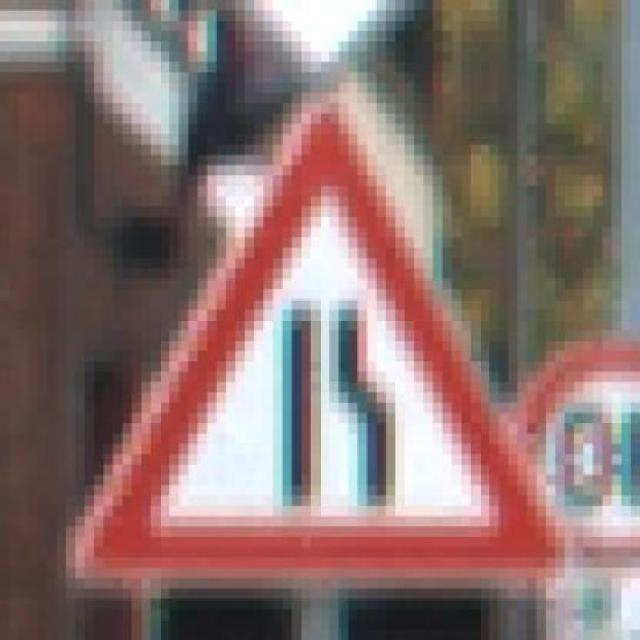-Road narrows on right: (47, 61, 565, 598)
